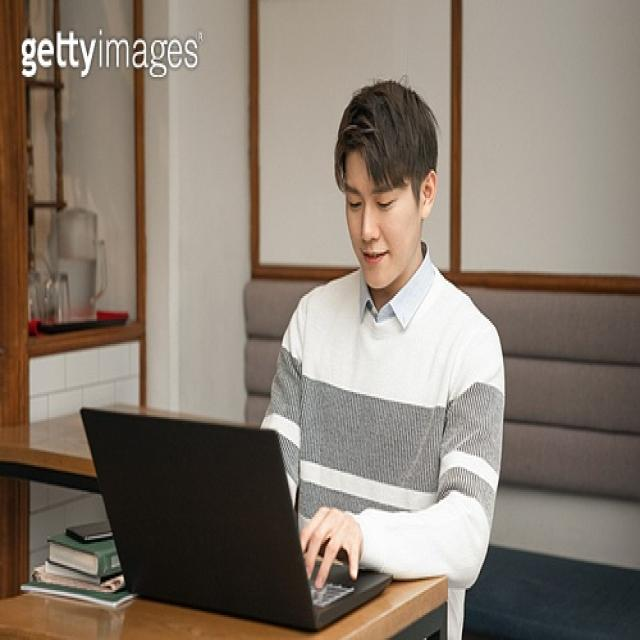notebook-person: (79, 65, 513, 640)
